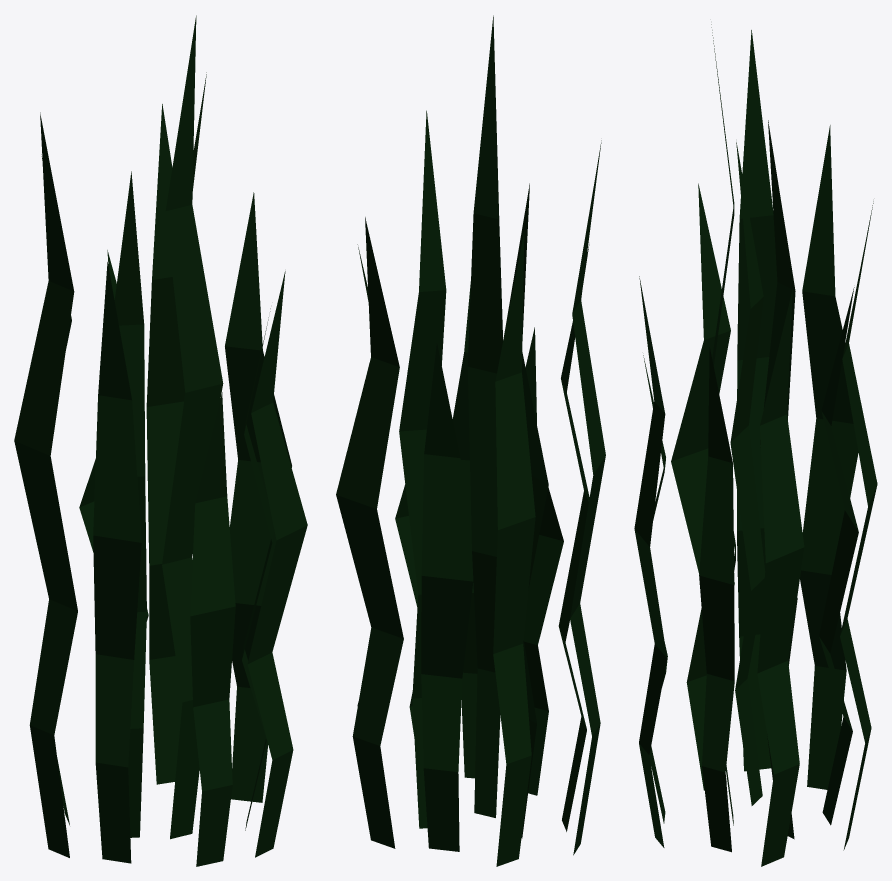
Rendered from Seaweed.fbx.
3 views of the same model, side by side, from view 1: azimuth 30°, elevation 25°; view 2: azimuth 150°, elevation 25°; view 3: azimuth 270°, elevation 25° (orthographic). The views are drawn at different scales.
Parts seen in each view (by area): view 1: Plane005; view 2: Plane005; view 3: Plane005.
Part boxes in pixels (x1,y1,x2,y2): Plane005: (14,15,307,866); Plane005: (336,15,605,866); Plane005: (634,24,877,866).
Bounding box in the file's own units: 9.36 × 27.74 × 7.56.
